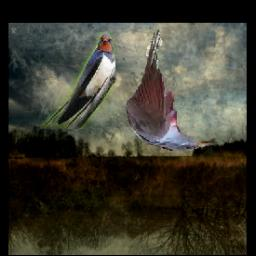Cuckoo: (128, 27, 214, 151)
Swallow: (41, 33, 116, 130)
